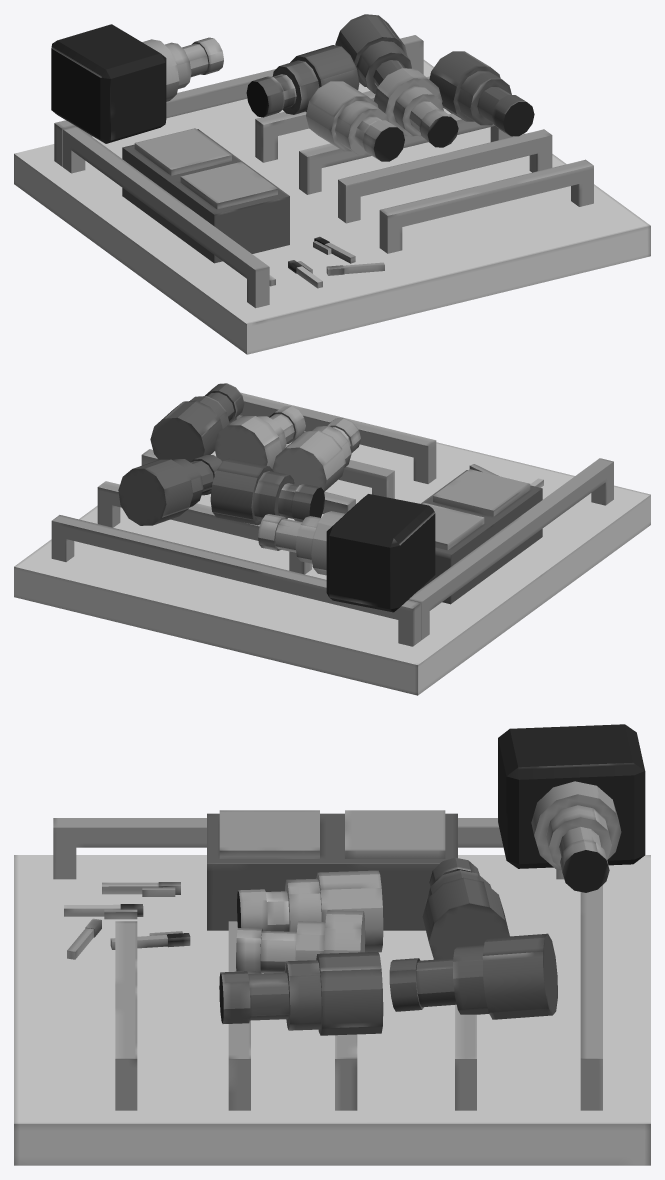
Rendered from Cameras_A.fbx.
3 renders of one model, top to bottom at view 1: azimuth 30°, elevation 25°; view 2: azimuth 150°, elevation 25°; view 3: azimuth 270°, elevation 25°, orthographic. The views are drawn at different scales.
Parts seen in each view (by area): view 1: Cameras_A; view 2: Cameras_A; view 3: Cameras_A.
Boxes of the visible parts, left/top/right/bottom form: Cameras_A: left=14, top=14, right=650, bottom=354; Cameras_A: left=14, top=383, right=650, bottom=695; Cameras_A: left=14, top=724, right=650, bottom=1165.
Size of the model in its own units: 200 by 67.4 by 200.
